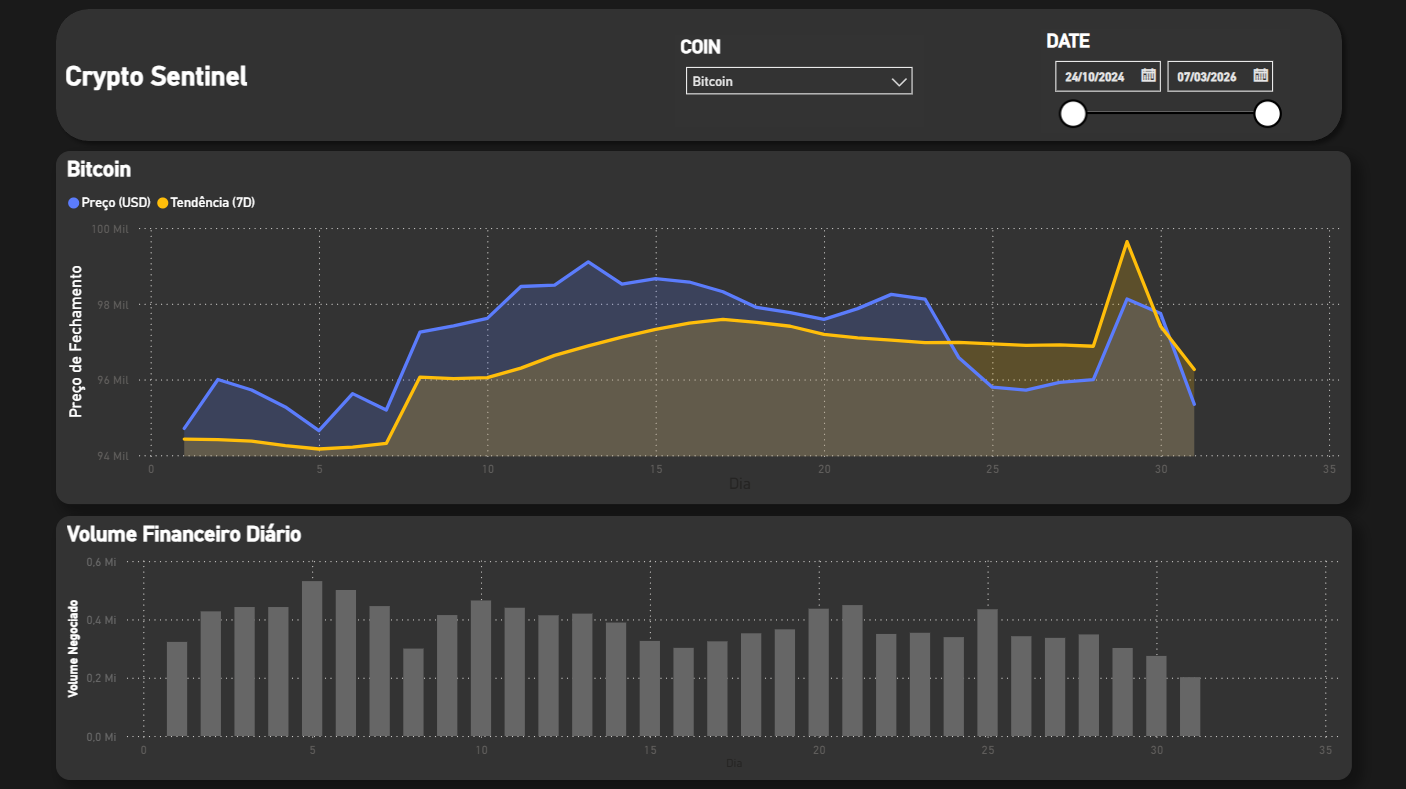

What the dashboard file says about the page in this screenshot:
{"tool":"powerbi","page":{"name":"Página 1","canvas":[1280,720],"ordinal":0},"visuals":[{"type":"shape","box":[41.8,0,1187.3,138.2],"z":0},{"type":"slicer","title":"COIN","fields":{"Values":["dim_Crypto.full_name"]},"box":[613.6,32.7,226.4,83.6],"z":1000},{"type":"slicer","title":"DATE","fields":{"Values":["fact_crypto_prices.date_key"]},"box":[946.4,27.3,226.4,93.6],"z":2000},{"type":"lineChart","fields":{"Y":["Avg(fact_crypto_prices.close_price)"],"Y2":["Avg(fact_crypto_prices.moving_average_7d)"],"Category":["fact_crypto_prices.date_key.Variation.Hierarquia de datas.Ano","fact_crypto_prices.date_key.Variation.Hierarquia de datas.Trimestre","fact_crypto_prices.date_key.Variation.Hierarquia de datas.Mês","fact_crypto_prices.date_key.Variation.Hierarquia de datas.Dia"]},"box":[50.9,138.2,1177.3,320.9],"z":3000},{"type":"columnChart","title":"Volume Financeiro Diário","fields":{"Category":["fact_crypto_prices.date_key.Variation.Hierarquia de datas.Dia"],"Y":["Sum(fact_crypto_prices.volume)"]},"box":[50.9,470,1178.2,240],"z":4000}]}

Visuals, with their boxes in screenshot pixels (x1, y1, x2, y2), scaled from the page's 1280x720 canvas onto the 1406x789 screenshot:
shape: 46 0 1350 151
"COIN" slicer: 674 36 923 127
"DATE" slicer: 1040 30 1288 132
lineChart - Avg(fact_crypto_prices.close_price) x Avg(fact_crypto_prices.moving_average_7d): 56 151 1349 503
"Volume Financeiro Diário" columnChart: 56 515 1350 778
